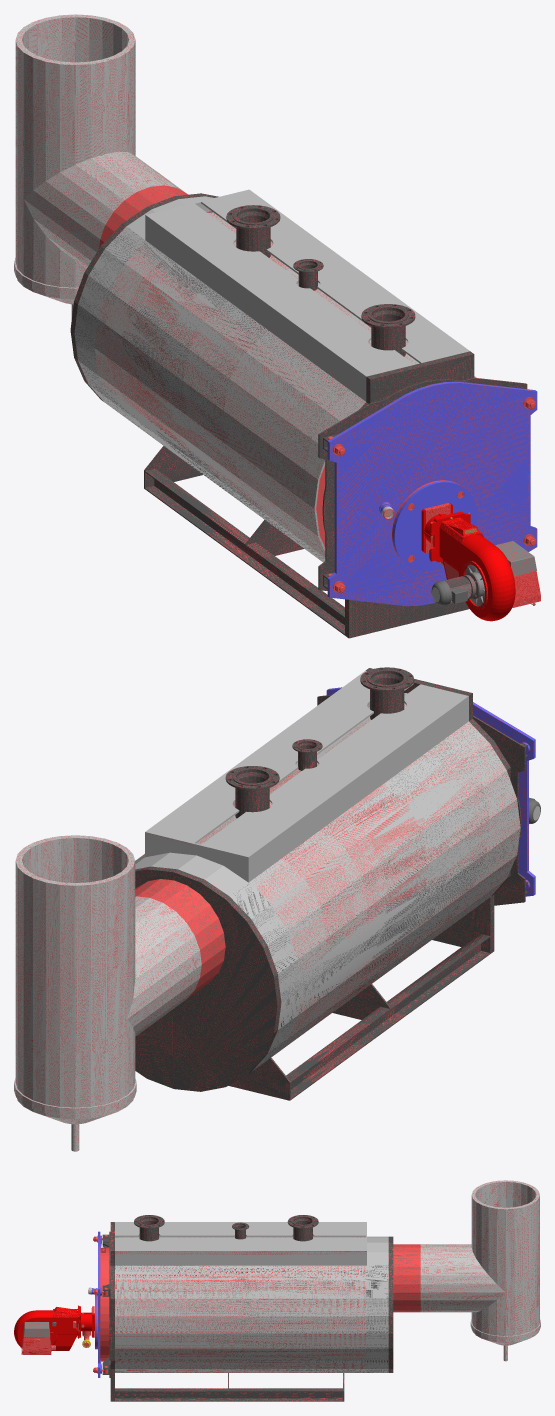
File: Chaudiere_Guillot_LRR55-notexture.dae
The picture shows the model from 3 angles, top to bottom: view 1: azimuth 30°, elevation 25°; view 2: azimuth 150°, elevation 25°; view 3: azimuth 270°, elevation 25°; orthographic projection. The views are drawn at different scales.
Parts seen in each view (by area): view 1: Groupe_1, Groupe_4, SketchUp, Groupe_14, Groupe_5, Groupe_2, Bruleur, Groupe_39, Groupe_11, Groupe_3, Groupe_46 (×2), Groupe_47 (×2) (+3 smaller); view 2: Groupe_1, SketchUp, Groupe_4, Groupe_3, Groupe_5, Groupe_2, Groupe_14, Groupe_11, Groupe_47 (×2), Groupe_46 (×2), Groupe_7, Groupe_8; view 3: Groupe_4, Groupe_1, SketchUp, Groupe_6, Groupe_3, Bruleur, Groupe_19, Groupe_33, Groupe_2, Groupe_47 (×2), Groupe_46 (×2), Groupe_14 (+1 smaller).
Part boxes in pixels (box(x1,y1,x2,y2)): Groupe_1: box(74, 189, 475, 561); Groupe_4: box(94, 212, 476, 561); SketchUp: box(14, 14, 186, 318); Groupe_14: box(327, 381, 537, 606); Groupe_5: box(145, 468, 344, 635); Groupe_2: box(345, 351, 474, 638); Bruleur: box(421, 503, 535, 621); Groupe_39: box(392, 480, 477, 571); Groupe_11: box(318, 377, 527, 590); Groupe_3: box(70, 185, 218, 401); Groupe_46 (×2): box(236, 215, 405, 356); Groupe_47 (×2): box(226, 205, 415, 328); Groupe_1: box(135, 671, 520, 1071); SketchUp: box(14, 835, 201, 1151); Groupe_4: box(135, 693, 520, 1056); Groupe_3: box(135, 866, 281, 1091); Groupe_5: box(286, 933, 490, 1099); Groupe_2: box(365, 668, 510, 953); Groupe_14: box(326, 687, 535, 896); Groupe_11: box(317, 695, 525, 905); Groupe_47 (×2): box(225, 667, 414, 790); Groupe_46 (×2): box(235, 677, 404, 818); Groupe_7: box(228, 1057, 290, 1100); Groupe_8: box(332, 984, 391, 1019); Groupe_4: box(115, 1236, 365, 1372); Groupe_1: box(115, 1222, 388, 1372); SketchUp: box(84, 1180, 540, 1361); Groupe_6: box(115, 1388, 342, 1401); Groupe_3: box(388, 1236, 420, 1372); Bruleur: box(14, 1305, 94, 1354); Groupe_19: box(100, 1247, 109, 1361); Groupe_33: box(22, 1322, 51, 1354); Groupe_2: box(110, 1222, 114, 1401); Groupe_47 (×2): box(134, 1215, 318, 1228); Groupe_46 (×2): box(139, 1221, 312, 1241); Groupe_14: box(98, 1231, 100, 1377).
Bounding box in the file's own units: 6 × 23.12 × 9.02.
